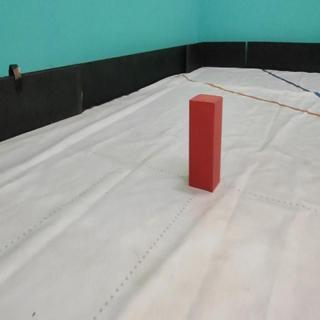redbox: (187, 93, 222, 192)
